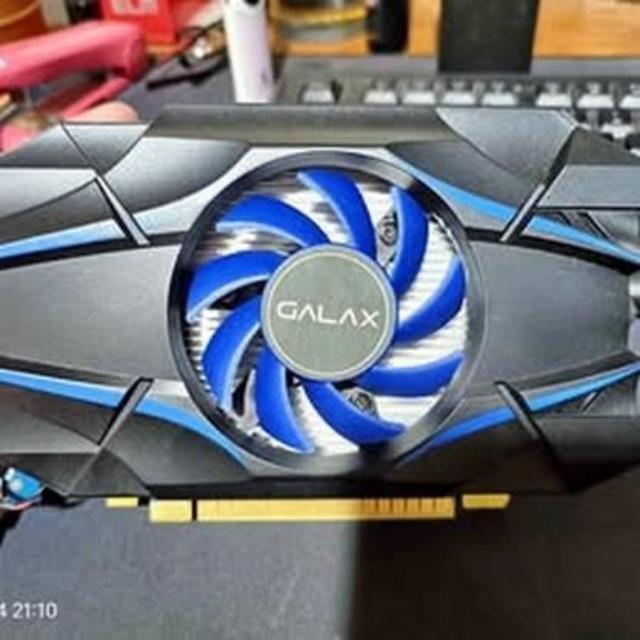GPU: (0, 95, 638, 530)
